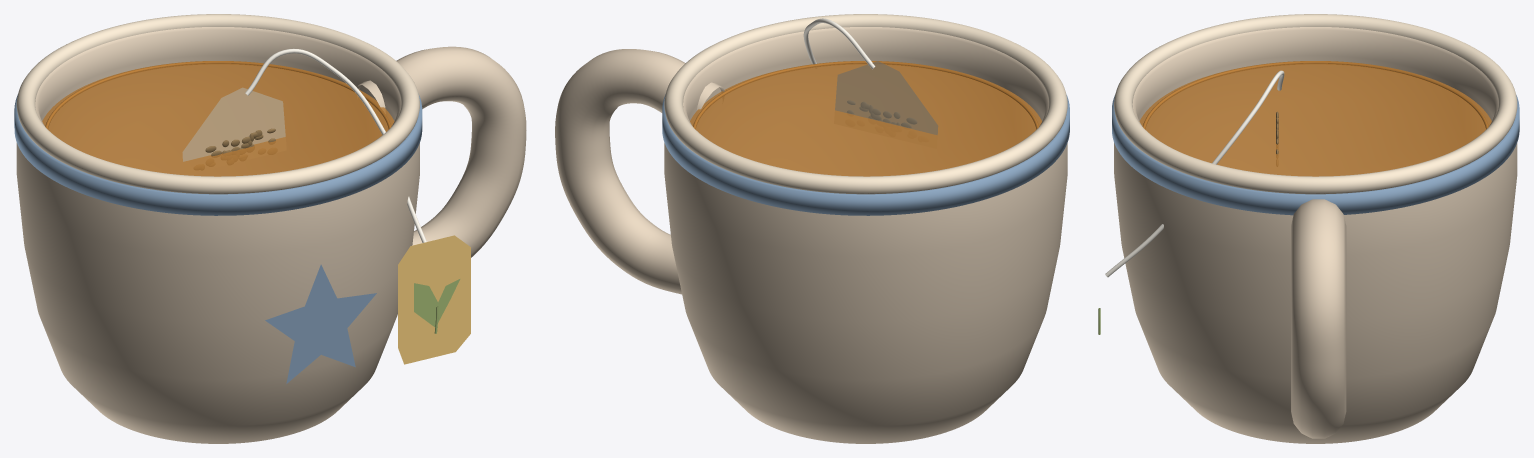
Rendered from tea cup.glb.
3 renders of one model, left to right at view 1: azimuth 30°, elevation 25°; view 2: azimuth 150°, elevation 25°; view 3: azimuth 270°, elevation 25°, orthographic.
Visible parts, largest first — view 1: Cream Ceramic Mug Hollow Body, Amber Tea Liquid Surface, Thick Ivory Top Rim, Thick Cream C-Shaped Handle, Blue Horizontal Stripe, Golden Yellow Tea Bag Label, Large Dusty Blue Five Point Star, Tea Bag Translucent Paper, Amber Tea Meniscus, White Tea Bag String, Tea Tag Left Green Leaf; view 2: Cream Ceramic Mug Hollow Body, Amber Tea Liquid Surface, Thick Cream C-Shaped Handle, Thick Ivory Top Rim, Blue Horizontal Stripe, Tea Bag Translucent Paper, Amber Tea Meniscus, White Tea Bag String; view 3: Cream Ceramic Mug Hollow Body, Amber Tea Liquid Surface, Thick Ivory Top Rim, Thick Cream C-Shaped Handle, Blue Horizontal Stripe, Amber Tea Meniscus, White Tea Bag String.
Boxes of the visible parts, <box> form: Cream Ceramic Mug Hollow Body: <box>16,27,419,443</box>; Amber Tea Liquid Surface: <box>42,61,394,176</box>; Thick Ivory Top Rim: <box>16,14,419,194</box>; Thick Cream C-Shaped Handle: <box>357,46,526,257</box>; Blue Horizontal Stripe: <box>14,94,422,215</box>; Golden Yellow Tea Bag Label: <box>398,235,470,364</box>; Large Dusty Blue Five Point Star: <box>265,264,376,383</box>; Tea Bag Translucent Paper: <box>182,87,285,161</box>; Amber Tea Meniscus: <box>45,61,391,129</box>; White Tea Bag String: <box>245,48,426,242</box>; Tea Tag Left Green Leaf: <box>414,283,437,327</box>; Cream Ceramic Mug Hollow Body: <box>664,27,1067,443</box>; Amber Tea Liquid Surface: <box>690,61,1041,176</box>; Thick Cream C-Shaped Handle: <box>555,49,724,294</box>; Thick Ivory Top Rim: <box>664,14,1067,194</box>; Blue Horizontal Stripe: <box>662,94,1069,215</box>; Tea Bag Translucent Paper: <box>835,61,938,135</box>; Amber Tea Meniscus: <box>693,61,1038,129</box>; White Tea Bag String: <box>803,18,875,69</box>; Cream Ceramic Mug Hollow Body: <box>1114,27,1517,443</box>; Amber Tea Liquid Surface: <box>1139,61,1491,176</box>; Thick Ivory Top Rim: <box>1114,14,1517,194</box>; Thick Cream C-Shaped Handle: <box>1291,199,1346,438</box>; Blue Horizontal Stripe: <box>1112,95,1519,215</box>; Amber Tea Meniscus: <box>1142,61,1488,129</box>; White Tea Bag String: <box>1105,70,1284,277</box>.
Size of what is drawn, in the model's own units: 3.84 by 2.66 by 2.9.
